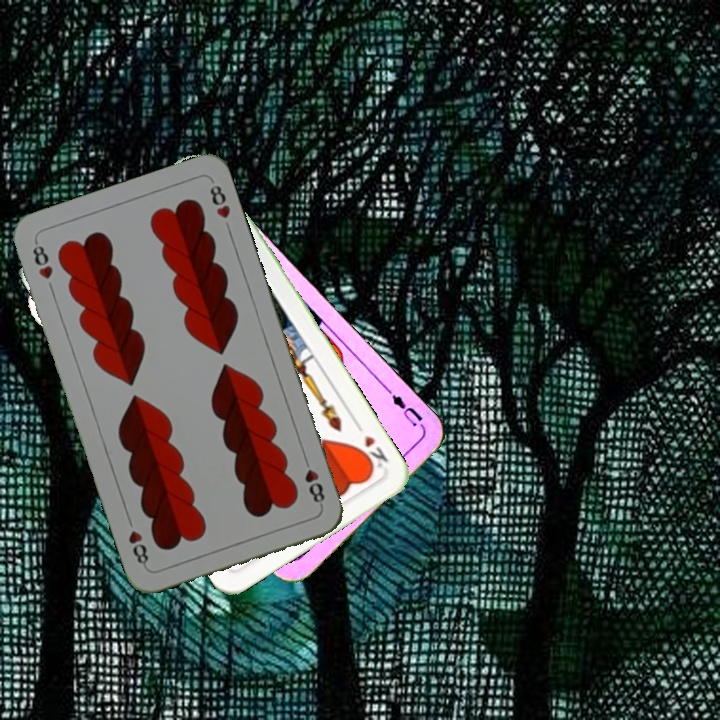EU: (387, 390, 426, 429)
H8: (299, 452, 328, 509), (28, 237, 56, 282)
HK: (351, 418, 391, 475)
